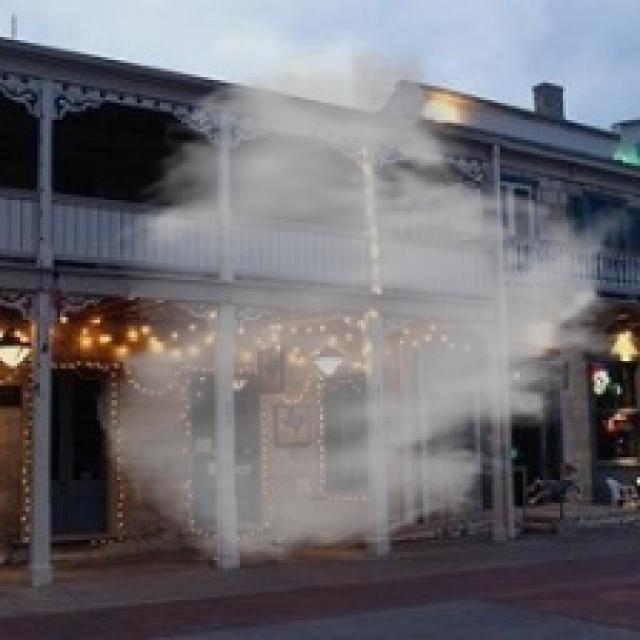smoke: (92, 40, 637, 571)
